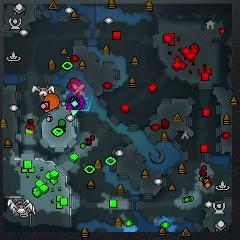Other: (70, 80, 88, 96)
p1: (67, 93, 74, 100)
p2: (69, 109, 80, 116)
p3: (67, 96, 85, 111)
p5: (43, 93, 61, 114)
